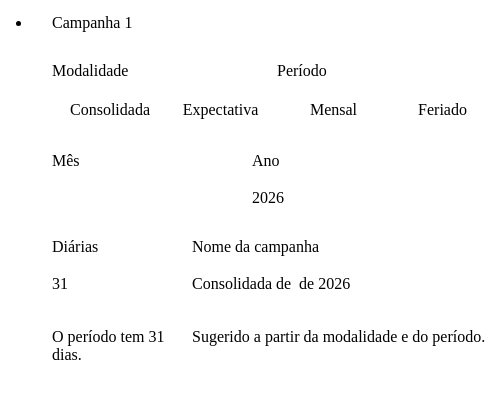
Test: CampanhaCampos › editar as diárias mostra o botão para voltar aos dias do período
Replace the text in the number field labelled "Diárias" with "20": (122, 284) [52,262,192,306]
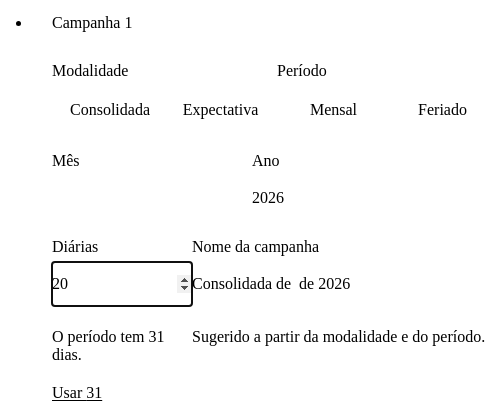
Click the button "Usar 31": (77, 392) [52,384,102,402]
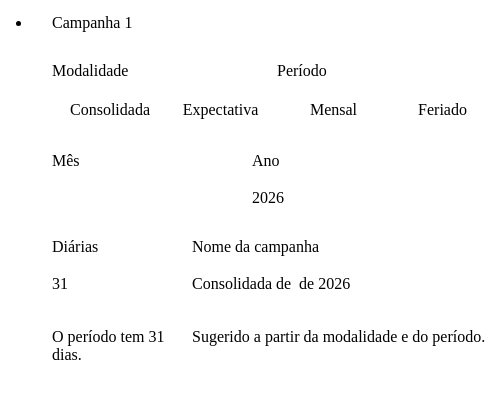
Result: the number field labelled "Diárias" holds "31" at [52,262,192,306]
Result: the button "Usar 31" is gone
